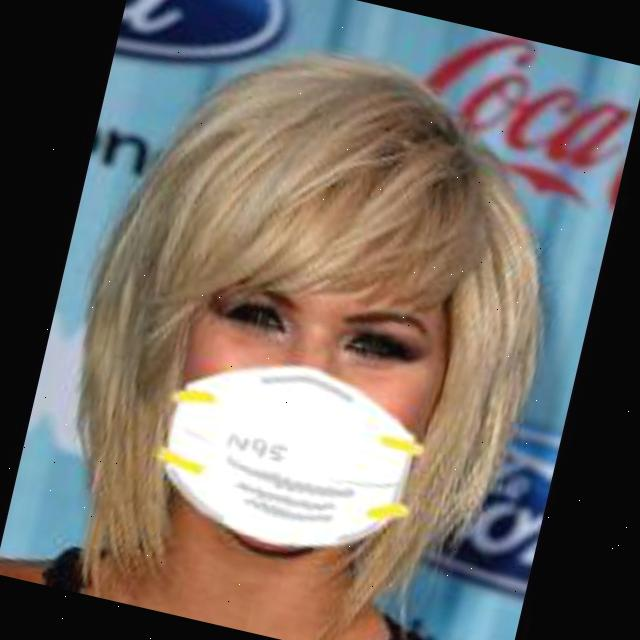suspicion: (93, 81, 528, 608)
